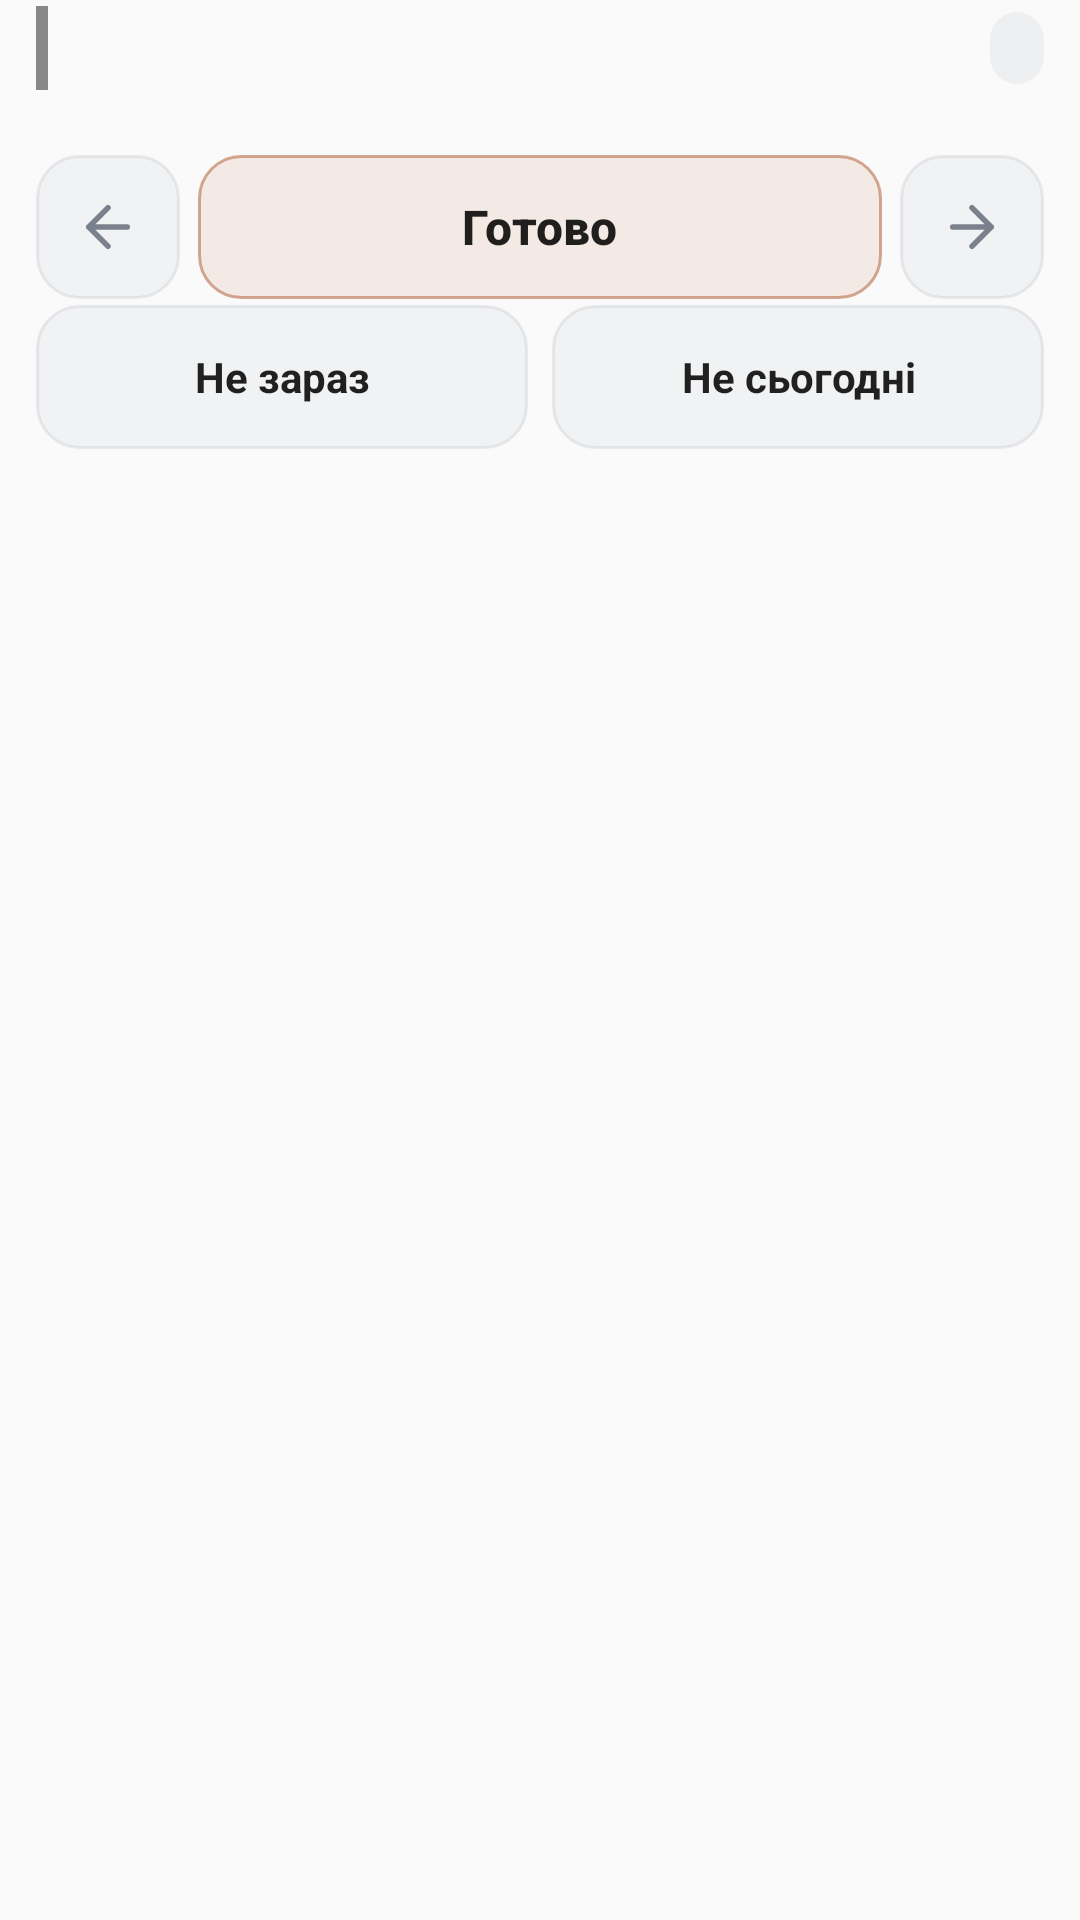

Screen size 1080px×1920px. Icon name, then its box in pixels as (x1, y1, x2, y2):
Наступна задача: (900, 155, 1044, 299)
Попередня задача: (36, 155, 180, 299)
